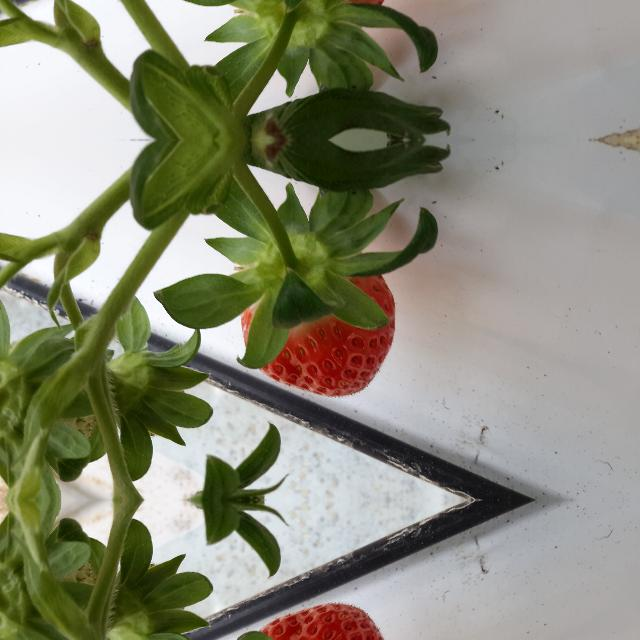Health_100: (240, 274, 398, 396), (240, 603, 397, 640)
